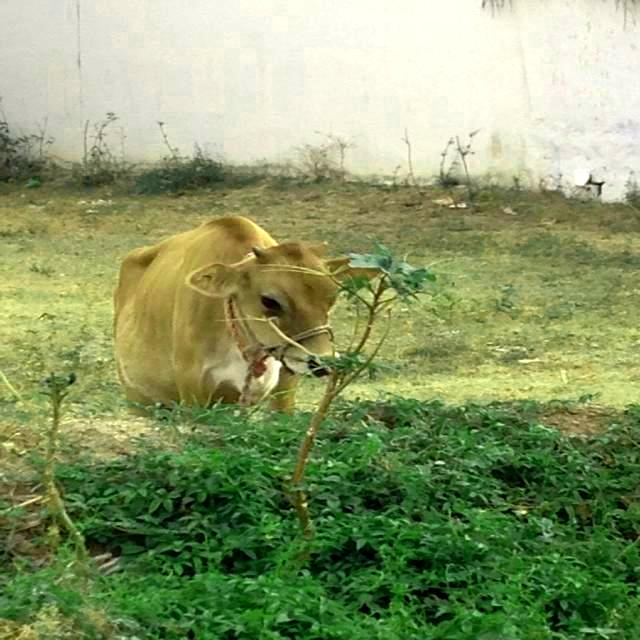COW: (114, 216, 341, 409)
